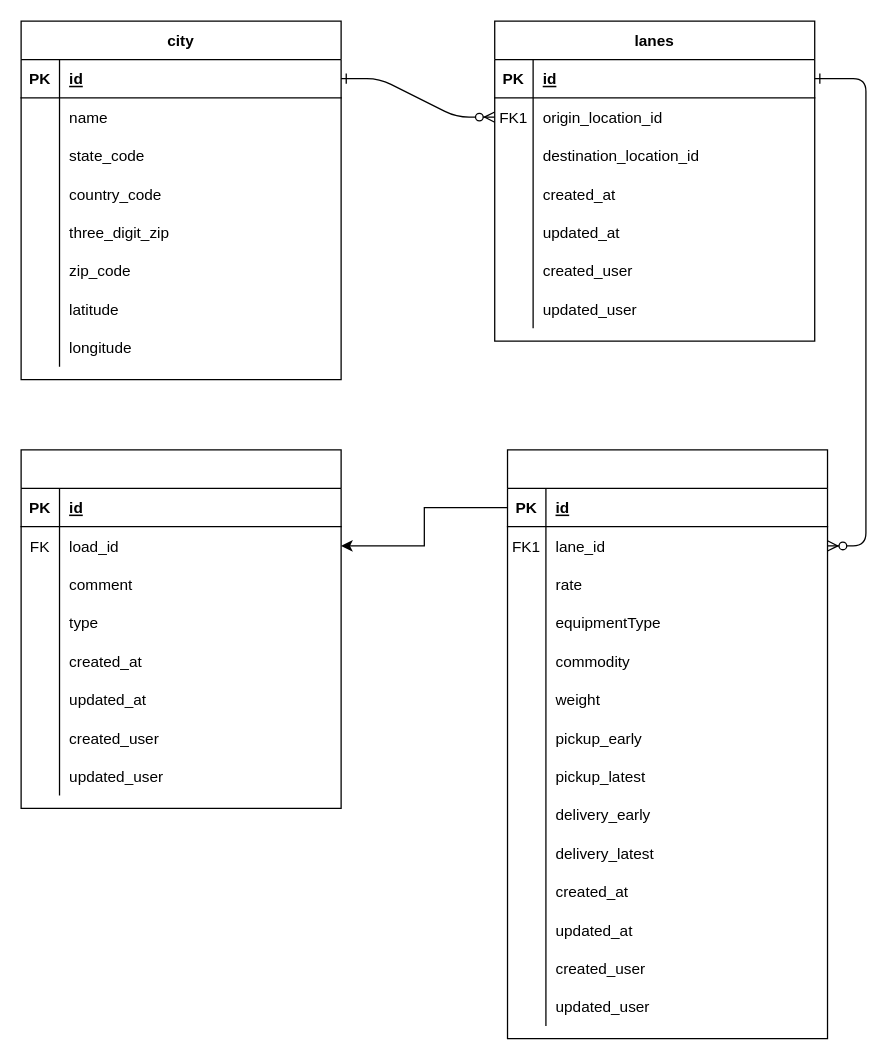
Image size: 887x1060. Some labels were removed from this diagram. The shapes that lost their labels are listed below. From the top down, each one's box as (x1, y1, x2, y2) in pixels, then its label:
(20, 449, 341, 808): load_comments
(506, 449, 828, 1039): loads
